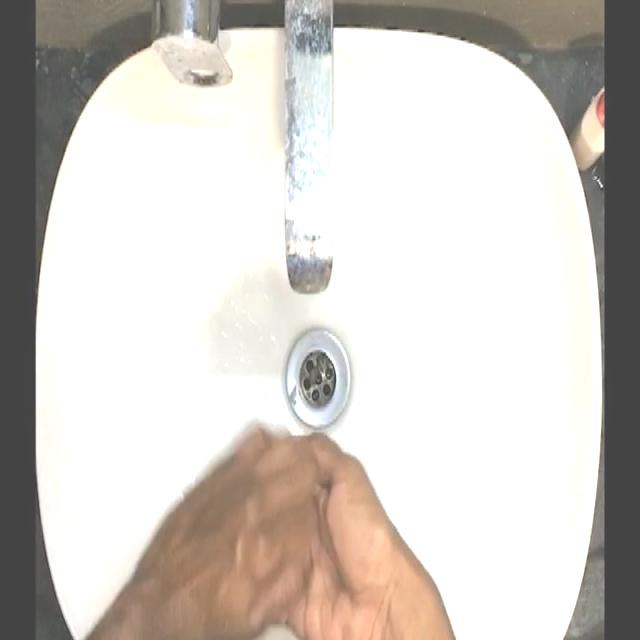step_4: (144, 414, 412, 634)
